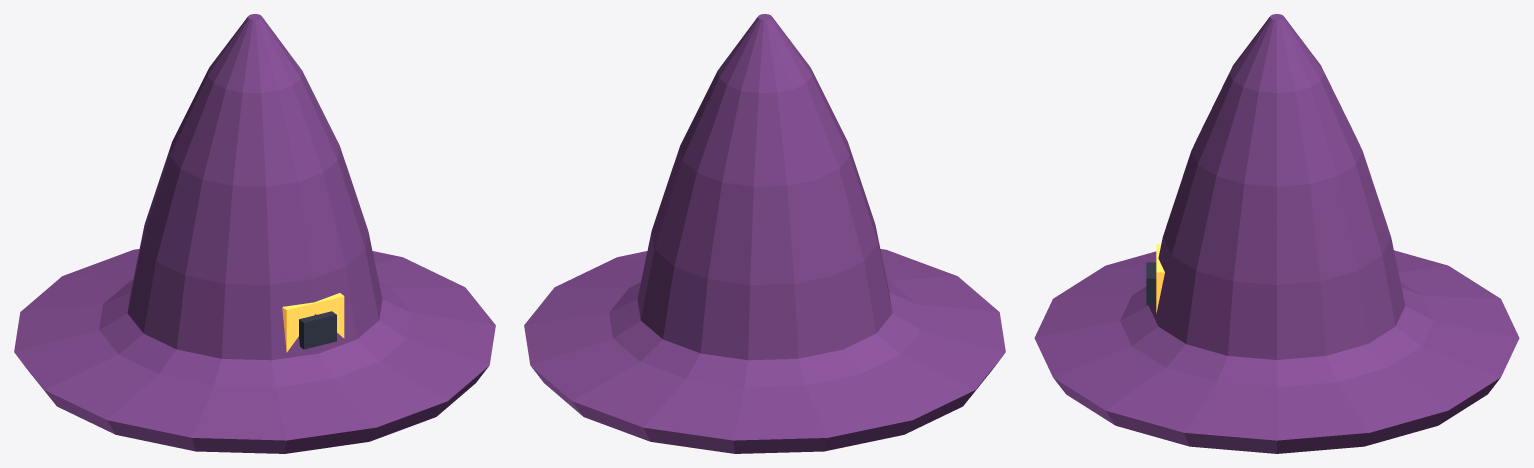
Rendered from halloween-witch-hat.glb.
The picture shows the model from 3 angles, left to right: view 1: azimuth 30°, elevation 25°; view 2: azimuth 150°, elevation 25°; view 3: azimuth 270°, elevation 25°; orthographic projection.
Parts seen in each view (by area): view 1: witch-hat; view 2: witch-hat; view 3: witch-hat.
Part boxes in pixels (<box>): witch-hat: <box>14,14,495,453</box>; witch-hat: <box>524,14,1005,453</box>; witch-hat: <box>1034,14,1519,453</box>.
Bounding box in the file's own units: 1.02 × 0.79 × 1.02.
